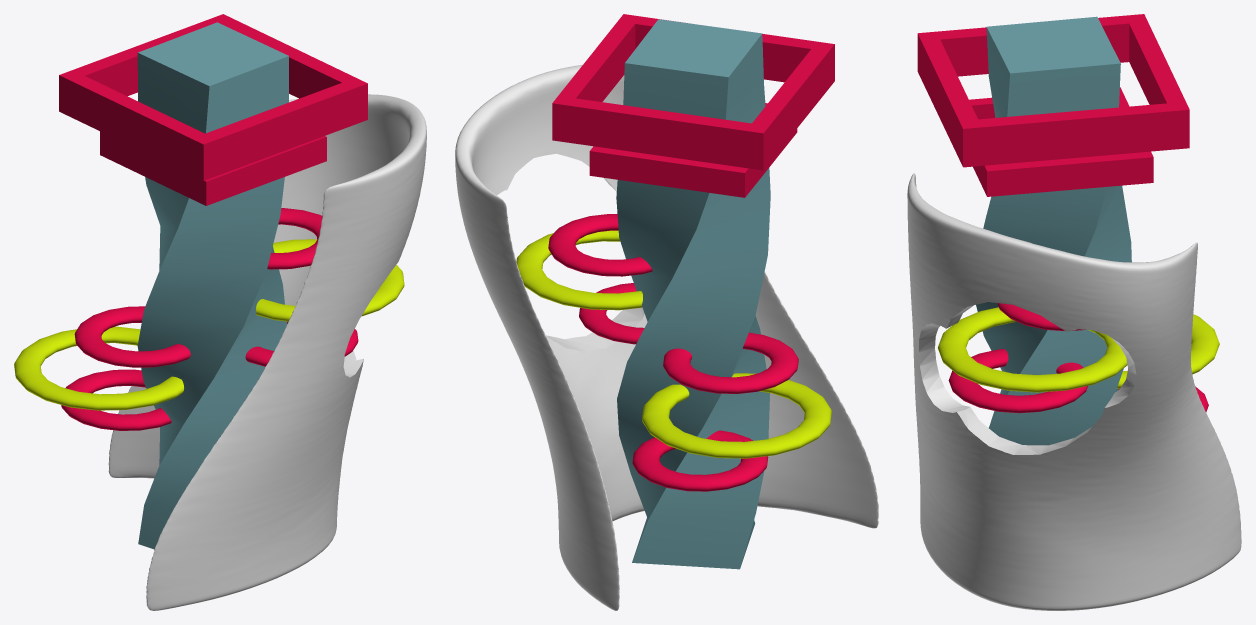
File: Building1.fbx
3 views of the same model, side by side, from view 1: azimuth 30°, elevation 25°; view 2: azimuth 150°, elevation 25°; view 3: azimuth 270°, elevation 25° (orthographic). The views are drawn at different scales.
Parts seen in each view (by area): view 1: group13, pCube1, pasted__pasted__pCube2, pasted__pCube2, pasted__pTorus2, pasted__pasted__pTorus2, pasted__pasted__pasted__pTorus1, pTorus1, pasted__pTorus1, pasted__pasted__pTorus1; view 2: pCube1, group13, pasted__pasted__pCube2, pasted__pTorus2, pasted__pCube2, pasted__pasted__pTorus2, pasted__pasted__pasted__pTorus1, pTorus1, pasted__pTorus1, pasted__pasted__pTorus1; view 3: group13, pCube1, pasted__pasted__pCube2, pasted__pCube2, pTorus1, pasted__pasted__pTorus1, pasted__pTorus2, pasted__pTorus1.
Part boxes in pixels (x1,y1,x2,y2): group13: [108, 94, 426, 610]; pCube1: [137, 22, 289, 549]; pasted__pasted__pCube2: [59, 14, 367, 180]; pasted__pCube2: [100, 131, 326, 205]; pasted__pTorus2: [14, 326, 183, 410]; pasted__pasted__pTorus2: [74, 306, 190, 367]; pasted__pasted__pasted__pTorus1: [61, 369, 171, 430]; pTorus1: [256, 239, 404, 321]; pasted__pTorus1: [267, 208, 322, 269]; pasted__pasted__pTorus1: [245, 321, 358, 366]; pCube1: [616, 19, 770, 569]; group13: [455, 64, 878, 610]; pasted__pasted__pCube2: [552, 14, 834, 170]; pasted__pTorus2: [642, 373, 831, 458]; pasted__pCube2: [589, 103, 797, 197]; pasted__pasted__pTorus2: [663, 332, 798, 393]; pasted__pasted__pasted__pTorus1: [632, 430, 768, 491]; pTorus1: [516, 230, 642, 310]; pasted__pTorus1: [548, 214, 652, 276]; pasted__pasted__pTorus1: [579, 283, 644, 344]; group13: [907, 173, 1241, 610]; pCube1: [976, 16, 1131, 445]; pasted__pasted__pCube2: [917, 14, 1189, 167]; pasted__pCube2: [969, 87, 1153, 196]; pTorus1: [938, 307, 1127, 392]; pasted__pasted__pTorus1: [948, 349, 1087, 413]; pasted__pTorus2: [1117, 314, 1219, 388]; pasted__pTorus1: [997, 303, 1085, 331].
Size of the model in its own units: 7231 by 9335 by 5509.
